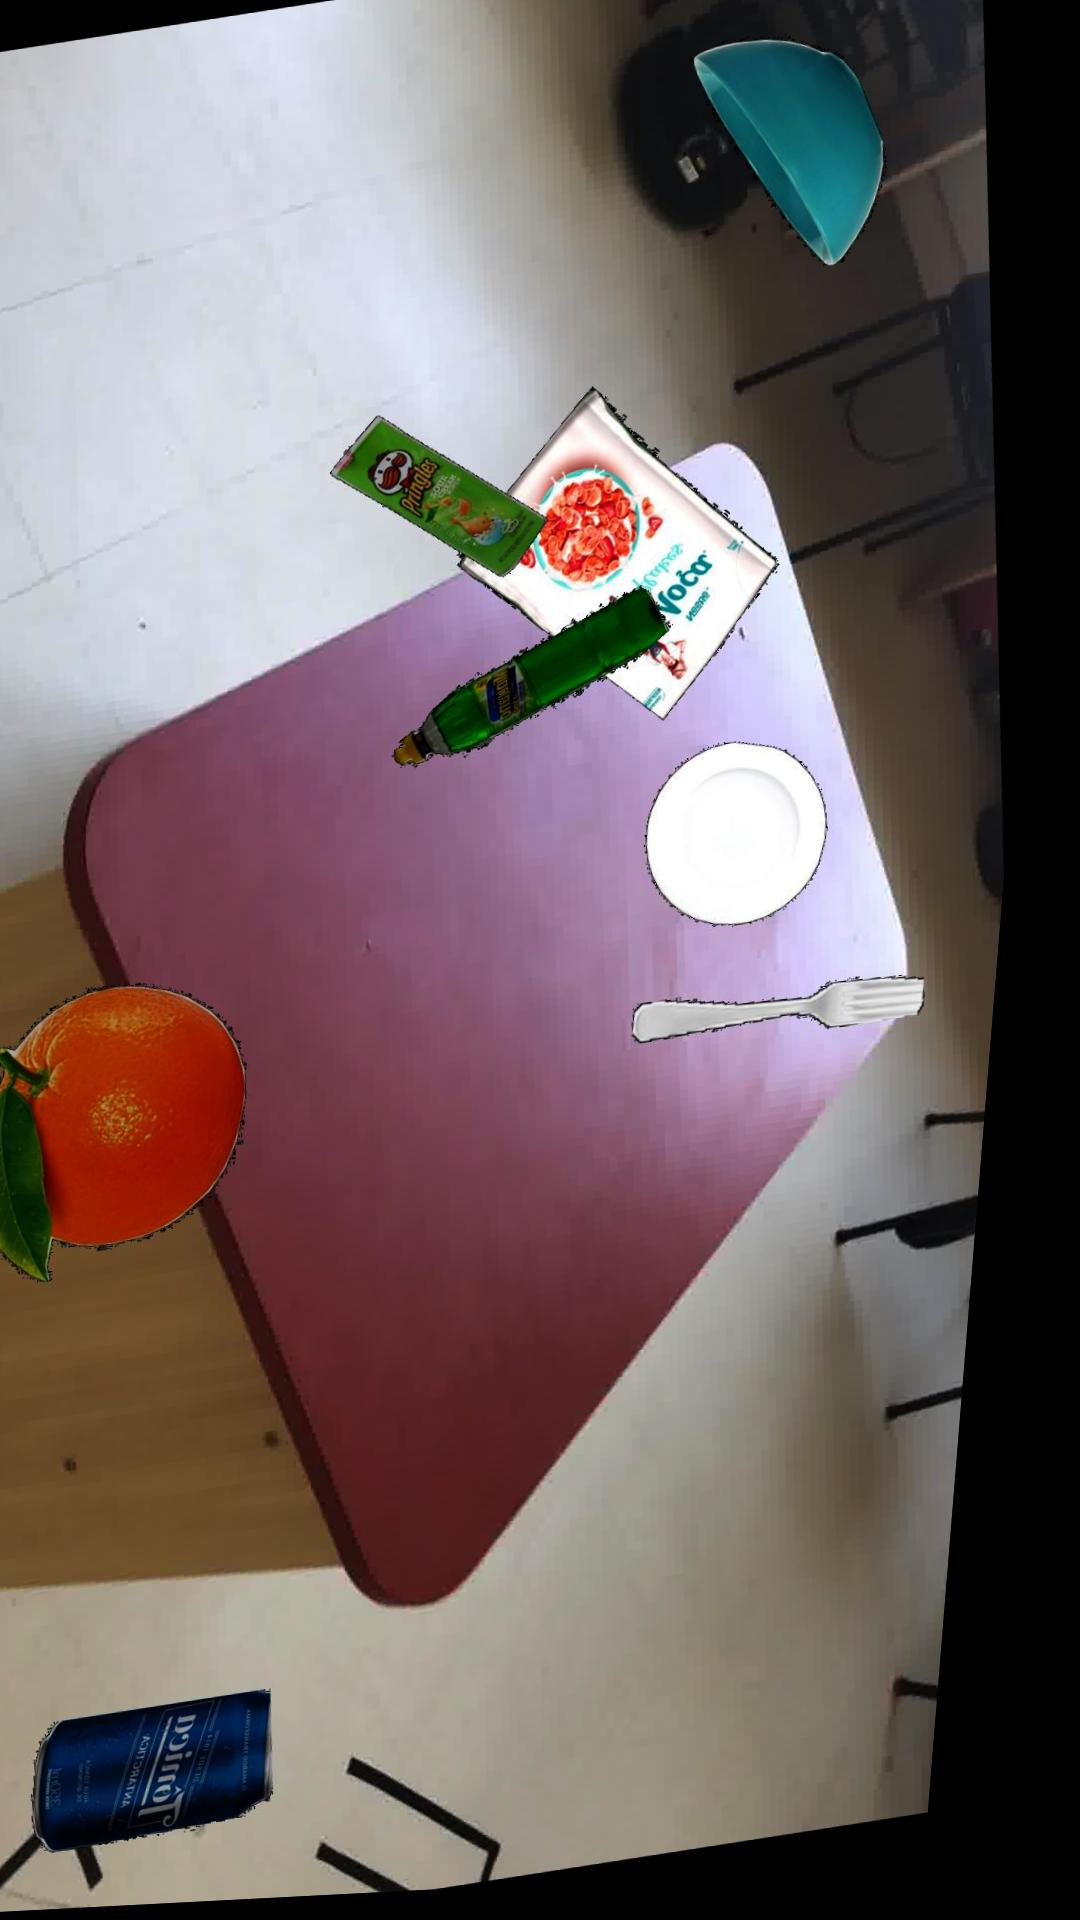bowl: (688, 47, 886, 277)
cleaner: (404, 593, 679, 771)
corn flakes: (465, 394, 786, 729)
fork: (647, 988, 940, 1052)
orange: (0, 986, 264, 1284)
plate: (658, 752, 840, 935)
pringles: (336, 421, 555, 584)
tonic: (61, 1695, 302, 1855)
